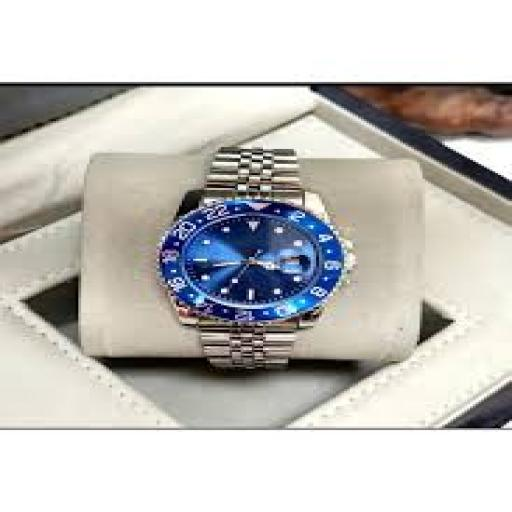KolSaati: (142, 126, 367, 396)
